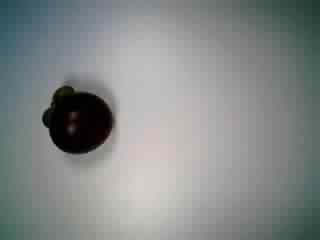mangosteen: (38, 82, 116, 160)
